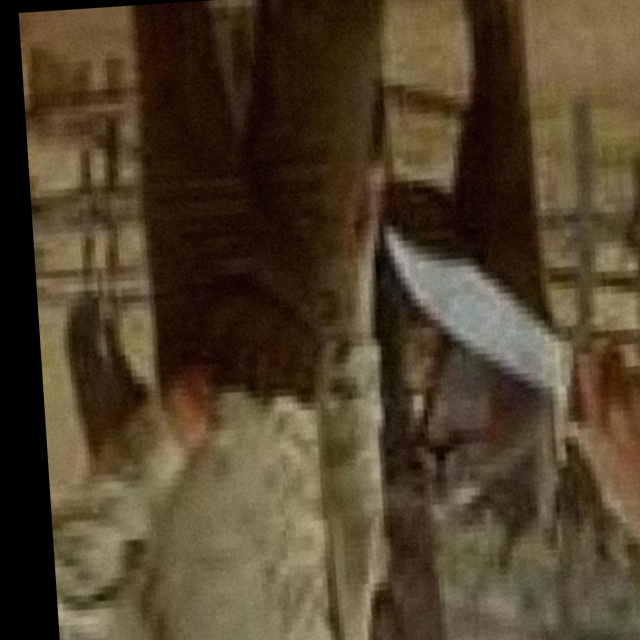Sharp-Object: (385, 213, 584, 468)
